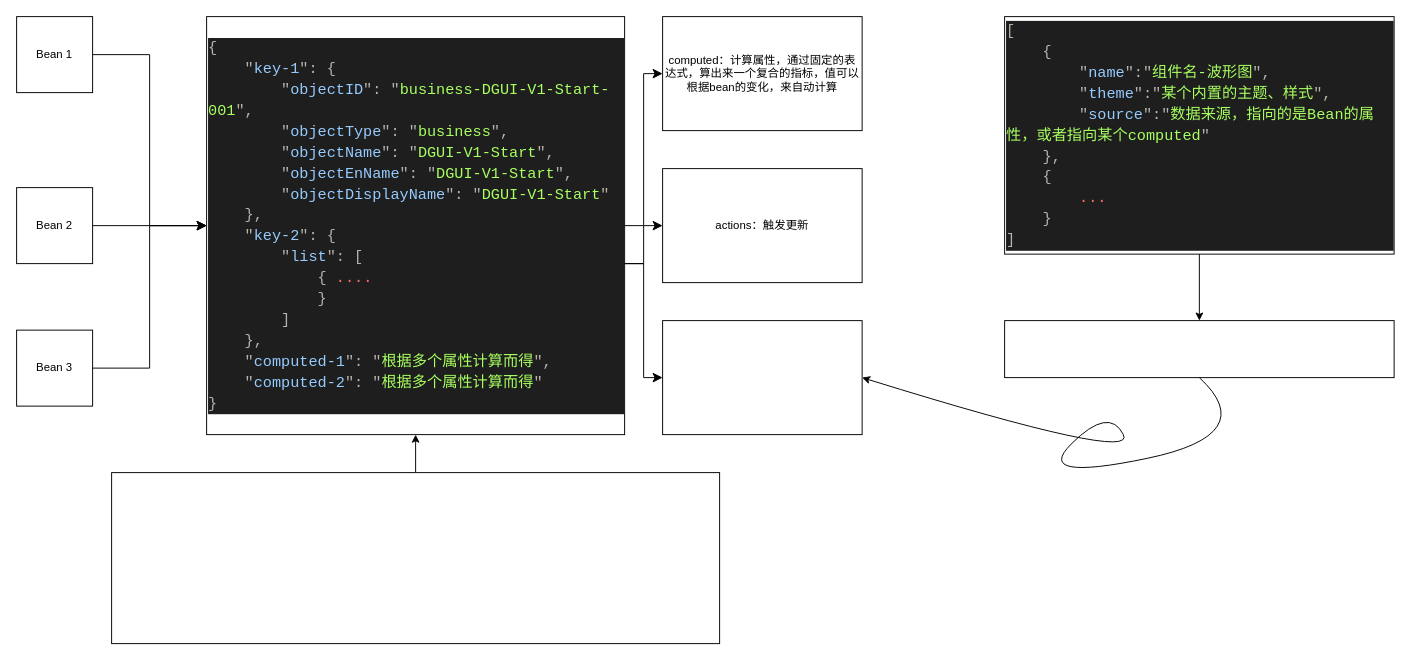
The diagram is 1411 pixels wide and 660 high, and some of its shapes have lost their labels. Here are the shapes that lost their labels. From the top down, the centre of each, then its label:
(x=1199, y=349): 配置化组件
(x=762, y=377): getter：获取值，在获取的时候，自动进行依赖收集，当值变化时，会自动通知使用了这个值的组件
(x=415, y=558): 状态管理库： 按页面组织一个结构，该结构包含了页面所需的所有信息，每次切换页面时，会对该结构进行卸载，打开配置页面时，对结构进行加载
